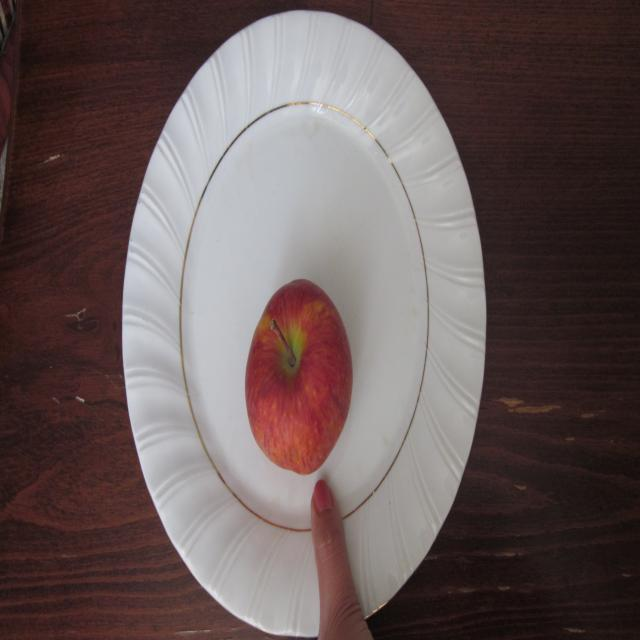Apple: (240, 271, 354, 478)
Finger: (301, 473, 367, 585)
